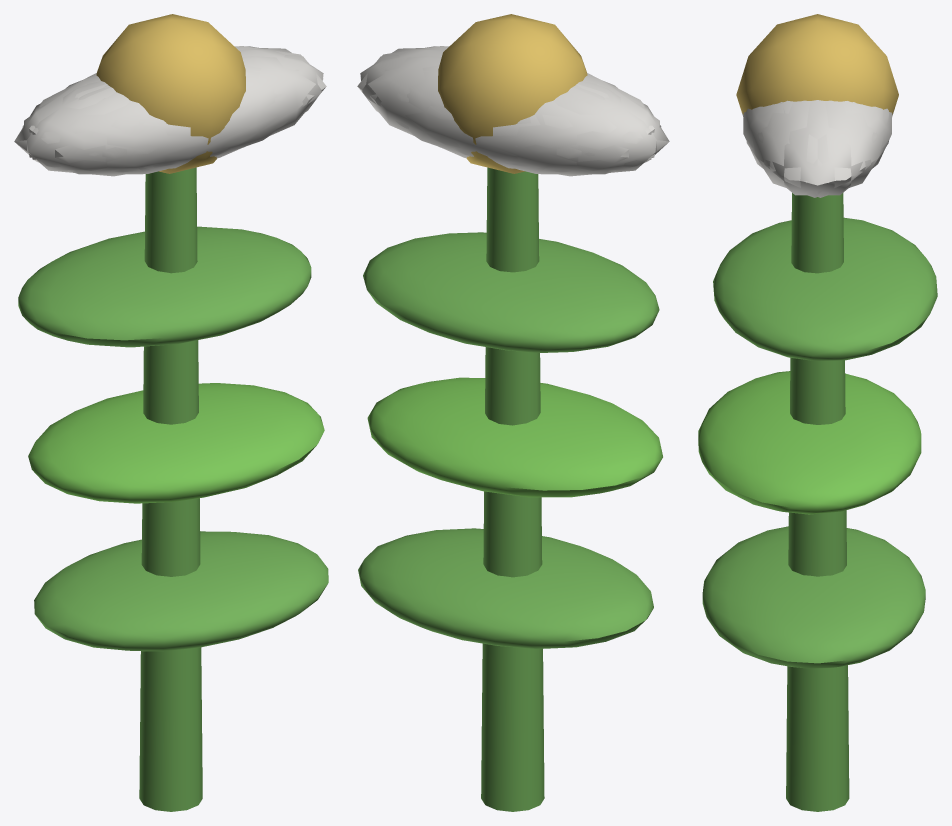
The model's file is ixora-chinensis.glb.
3 views of the same model, side by side, from view 1: azimuth 30°, elevation 25°; view 2: azimuth 150°, elevation 25°; view 3: azimuth 270°, elevation 25° (orthographic).
Visible parts, largest first — view 1: leaf1, leaf2, leaf0, stem, center, petal6, petal2, petal1, petal5, petal7, petal0; view 2: leaf2, leaf1, leaf0, stem, center, petal3, petal7, petal8, petal4, petal2, petal0; view 3: leaf2, leaf1, leaf0, stem, center, petal0, petal5, petal4, petal1, petal8.
Boxes of the visible parts, left/top/right/bottom form: leaf1: left=28, top=383, right=324, bottom=503; leaf2: left=18, top=226, right=311, bottom=347; leaf0: left=34, top=531, right=328, bottom=651; stem: left=139, top=167, right=202, bottom=811; center: left=96, top=14, right=245, bottom=173; petal6: left=32, top=86, right=232, bottom=174; petal2: left=24, top=81, right=177, bottom=176; petal1: left=102, top=65, right=308, bottom=172; petal5: left=166, top=55, right=326, bottom=164; petal7: left=14, top=75, right=115, bottom=167; petal0: left=239, top=48, right=323, bottom=147; leaf2: left=363, top=232, right=659, bottom=352; leaf1: left=367, top=377, right=662, bottom=497; leaf0: left=358, top=528, right=653, bottom=648; stem: left=481, top=167, right=544, bottom=811; center: left=438, top=14, right=587, bottom=173; petal3: left=451, top=86, right=651, bottom=174; petal7: left=506, top=81, right=659, bottom=176; petal8: left=375, top=65, right=581, bottom=172; petal4: left=357, top=55, right=517, bottom=164; petal2: left=568, top=75, right=669, bottom=167; petal0: left=360, top=48, right=444, bottom=147; leaf2: left=713, top=217, right=937, bottom=360; leaf1: left=698, top=371, right=921, bottom=514; leaf0: left=702, top=526, right=925, bottom=668; stem: left=786, top=193, right=849, bottom=811; center: left=736, top=14, right=898, bottom=114; petal0: left=757, top=100, right=877, bottom=195; petal5: left=746, top=100, right=829, bottom=197; petal4: left=805, top=100, right=888, bottom=197; petal1: left=743, top=100, right=793, bottom=169; petal8: left=841, top=101, right=891, bottom=169.
Size of the model in its own units: 0.1541 by 0.3794 by 0.1059.
